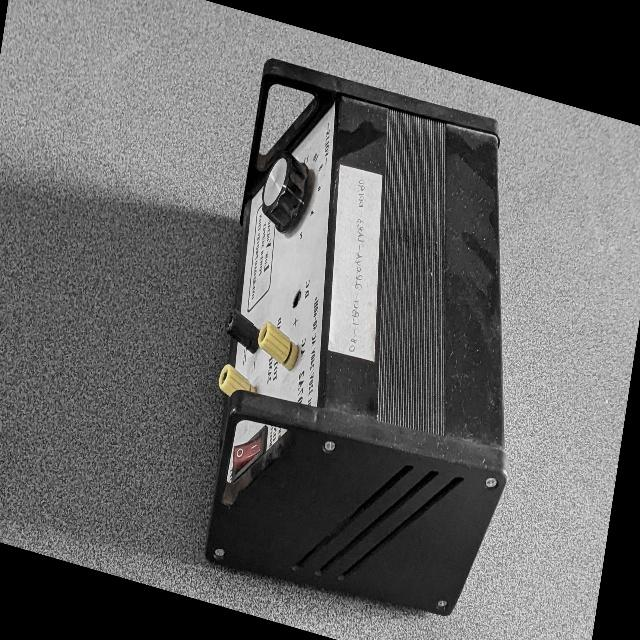AC-AD Regulated Power Supply: (184, 36, 563, 640)
